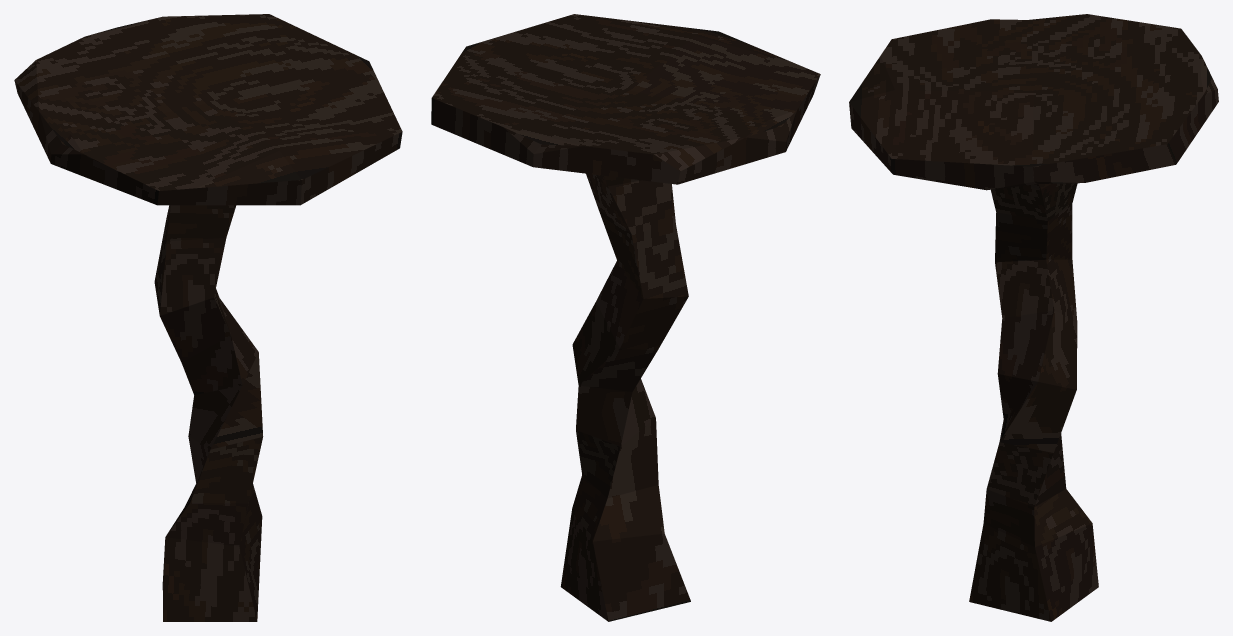
Rendered from mesita-simple.glb.
3 views of the same model, side by side, from view 1: azimuth 30°, elevation 25°; view 2: azimuth 150°, elevation 25°; view 3: azimuth 270°, elevation 25° (orthographic).
Parts seen in each view (by area): view 1: tabla-col, pata-col; view 2: tabla-col, pata-col; view 3: tabla-col, pata-col.
Boxes of the visible parts, x1,y1,x2,y2 form: tabla-col: (14, 14, 402, 205); pata-col: (154, 205, 263, 621); tabla-col: (431, 14, 820, 184); pata-col: (560, 173, 690, 621); tabla-col: (849, 14, 1218, 190); pata-col: (969, 183, 1098, 621).
Bounding box in the file's own units: 0.6528 × 1.01 × 0.6548.
Materials: 1 (1 with a texture image).
